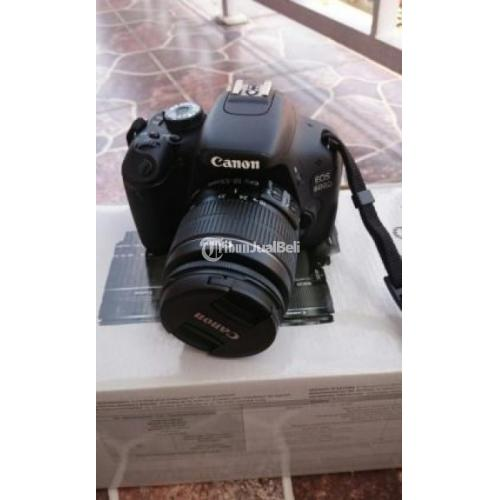kamera: (117, 74, 365, 364)
